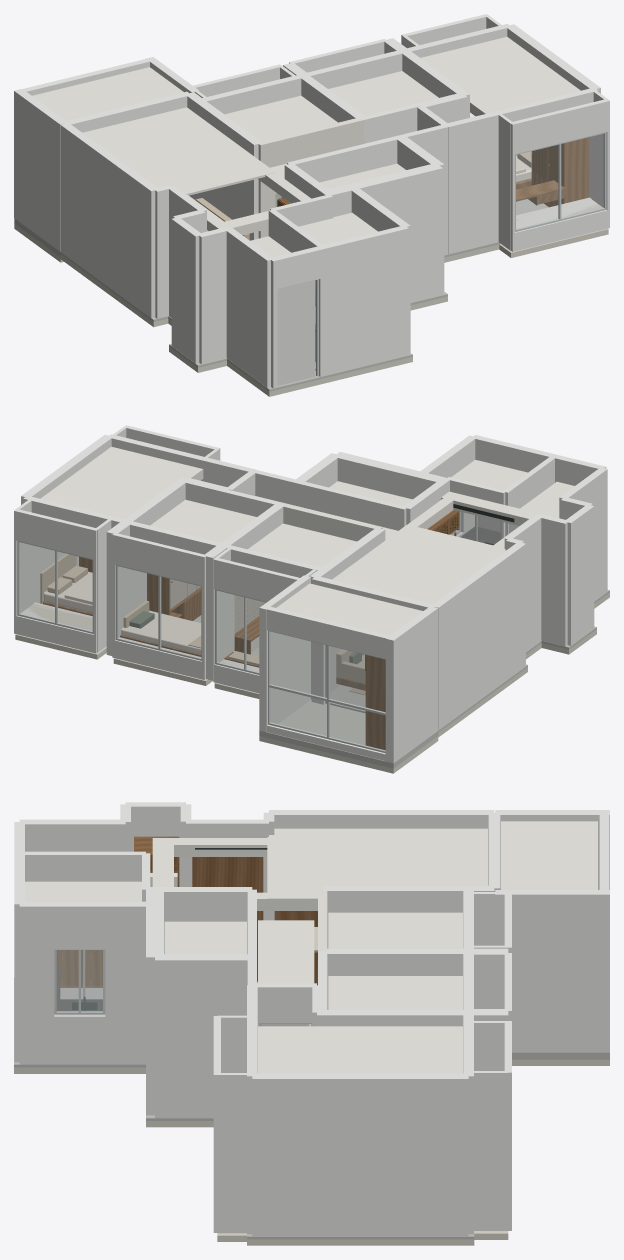
Rendered from MYM-05-凹位冰箱藤编版.glb.
3 views of the same model, one above another, from view 1: azimuth 30°, elevation 25°; view 2: azimuth 150°, elevation 25°; view 3: azimuth 270°, elevation 25° (orthographic). The views are drawn at different scales.
Visible parts, largest first — view 1: W-living-west-jamb-0, W-kitchen-exterior-south-jamb-0, C-panel-living, W-bay-master-bottom-room-jamb-0, C-panel-master, W-balcony-left-jamb-0, W-entry-west-jamb-0, W-bathroom-south-jamb-3, C-panel-balcony, W-west-niche-jamb-0, D-entry-leaf, W-west-return-south-jamb-0 (+54 smaller); view 2: W-living-west-jamb-0, C-panel-living, W-balcony-left-jamb-0, C-panel-master, WIN-balcony-glass-b, WIN-balcony-glass-a, W-balcony-right-jamb-0, C-panel-balcony, W-west-niche-jamb-0, W-west-return-jamb-0, FIN-balcony-pending, W-balcony-front-lintel-2 (+72 smaller); view 3: W-master-east-jamb-0, W-balcony-right-jamb-0, C-panel-living, W-bathroom-east-jamb-0, C-panel-master, W-kitchen-exterior-east-jamb-0, C-panel-balcony, W-kitchen-exterior-east-jamb-3, W-bay-master-top-right-jamb-0, C-panel-bedroom1, W-bay-master-bottom-right-jamb-0, C-panel-bedroom2 (+42 smaller).
Boxes of the visible parts, x1,y1,x2,y2 form: W-living-west-jamb-0: (60,124,157,318); W-kitchen-exterior-south-jamb-0: (321,225,408,375); C-panel-living: (82,107,275,195); W-bay-master-bottom-room-jamb-0: (445,111,499,254); C-panel-master: (421,37,580,113); W-balcony-left-jamb-0: (14,89,65,251); W-entry-west-jamb-0: (226,227,273,387); W-bathroom-south-jamb-3: (390,164,442,302); C-panel-balcony: (32,67,183,120); W-west-niche-jamb-0: (171,217,202,363); D-entry-leaf: (277,280,315,385); W-west-return-south-jamb-0: (199,227,229,364); W-living-west-jamb-0: (432,542,525,730); C-panel-living: (332,524,505,603); W-balcony-left-jamb-0: (385,606,438,763); C-panel-master: (40,446,202,518); WIN-balcony-glass-b: (269,632,326,736); WIN-balcony-glass-a: (329,646,385,750); W-balcony-right-jamb-0: (259,575,310,732); C-panel-balcony: (276,583,422,635); W-west-niche-jamb-0: (566,504,594,645); W-west-return-jamb-0: (538,514,569,646); FIN-balcony-pending: (259,699,438,768); W-balcony-front-lintel-2: (267,606,389,658); W-master-east-jamb-0: (252,1073,468,1236); W-balcony-right-jamb-0: (495,890,609,1052); C-panel-living: (267,828,487,901); W-bathroom-east-jamb-0: (155,954,251,1118); C-panel-master: (258,1026,462,1073); W-kitchen-exterior-east-jamb-0: (105,901,145,1064); C-panel-balcony: (501,821,597,889); W-kitchen-exterior-east-jamb-3: (19,901,54,1064); W-bay-master-top-right-jamb-0: (468,1071,508,1230); C-panel-bedroom1: (328,912,462,948); W-bay-master-bottom-right-jamb-0: (217,1073,251,1233); C-panel-bedroom2: (328,976,462,1009).
Bounding box in the file's own units: 11.08 × 3.2 × 10.08.
Materials: 26 (8 with a texture image).
